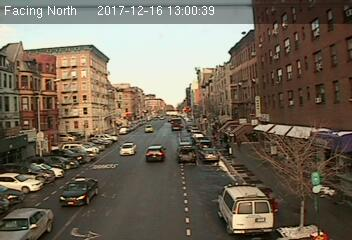car: (60, 177, 99, 205), (145, 144, 166, 163), (177, 145, 196, 163), (200, 148, 220, 164), (119, 142, 138, 157)
police: (217, 181, 274, 232)
ups: (170, 118, 182, 131)
